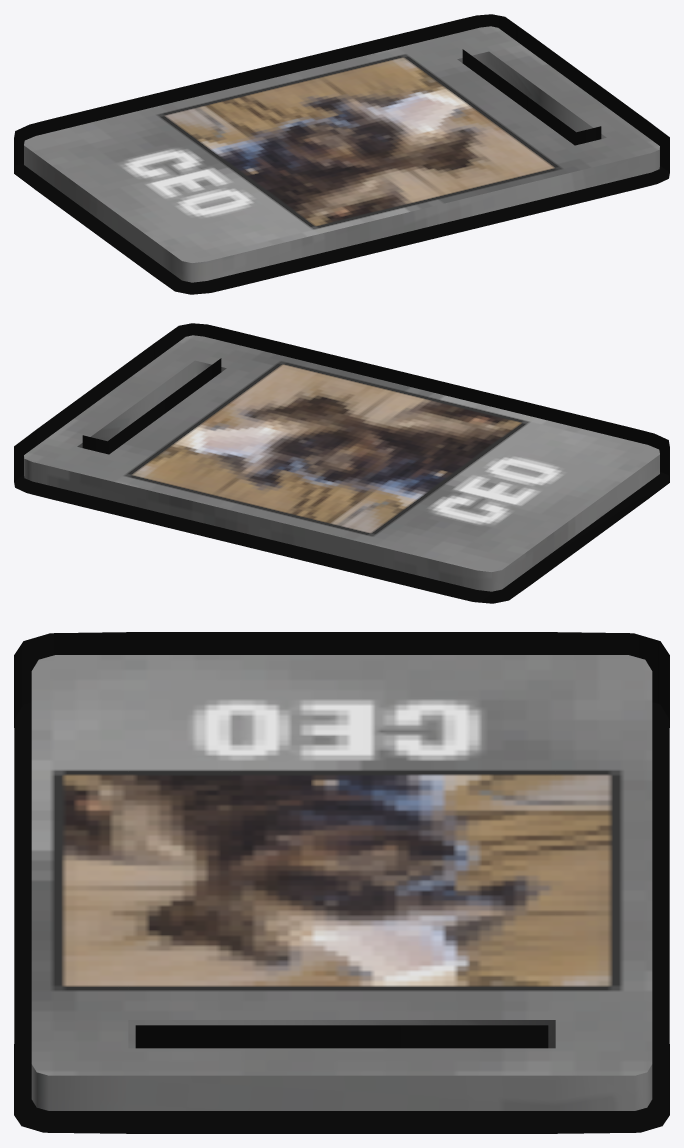
File: Crachá.glb
The picture shows the model from 3 angles, top to bottom: view 1: azimuth 30°, elevation 25°; view 2: azimuth 150°, elevation 25°; view 3: azimuth 270°, elevation 25°; orthographic projection. The views are drawn at different scales.
Visible parts, largest first — view 1: Cracha; view 2: Cracha; view 3: Cracha.
Part boxes in pixels (x1,y1,x2,y2): Cracha: (14, 14, 669, 294); Cracha: (14, 323, 669, 603); Cracha: (14, 632, 669, 1133).
Size of the model in its own units: 1.02 by 0.0866 by 0.6491.
Materials: 2 (1 with a texture image).
